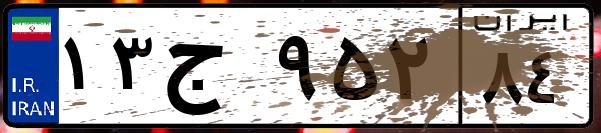1: (57, 26, 110, 100)
2: (385, 28, 445, 110)
3: (110, 28, 158, 98)
4: (525, 38, 570, 115)
5: (330, 28, 385, 110)
8: (475, 38, 525, 113)
9: (270, 28, 330, 110)
ج: (158, 20, 270, 120)
